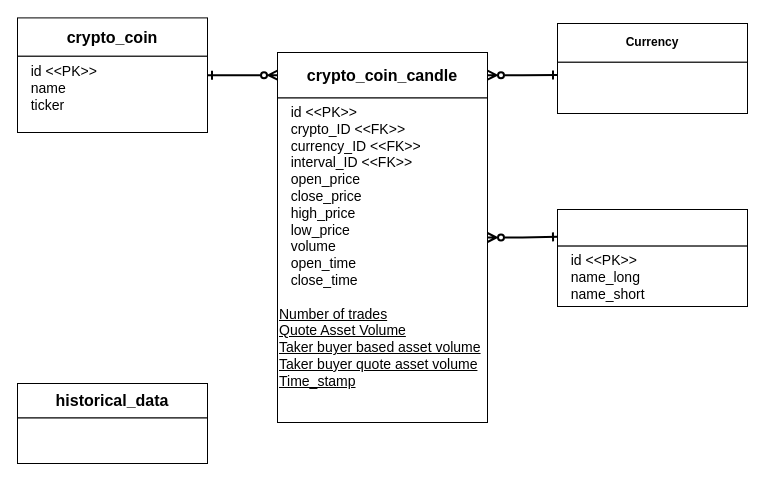
The diagram is 765 pixels wide and 489 high, and some of its shapes have lost their labels. The centre of each missing label's shape, as x and y in pixels:
Currency_ID <<PK>> Currency_name: [652,87]
id <<PK>> updated_at: [112,440]
interval: [652,227]
